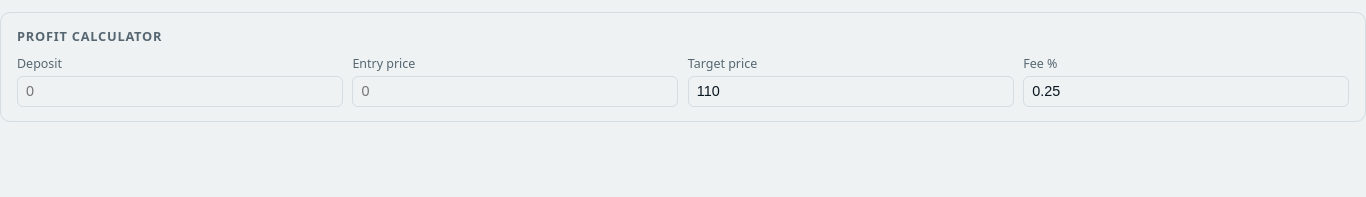
Test: computes net profit live from deposit + entry against the target
This screenshot has width=1366, height=197.
Type "10000" into the field labelled "Deposit". click: (180,91)
box: [17,76,343,107]
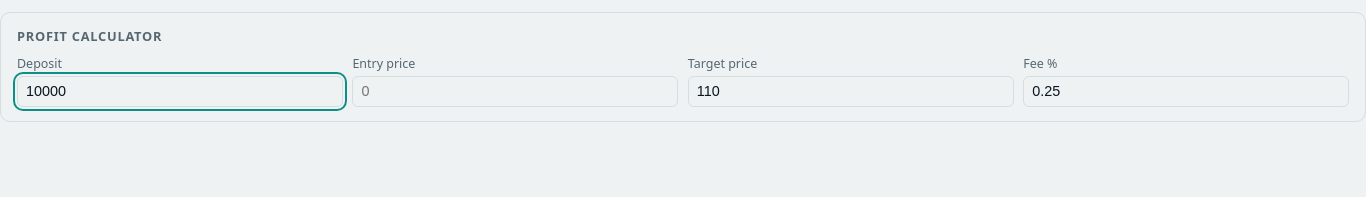
Type "100" into the field labelled "Entry price". click: (515,91)
box: [352,76,678,107]
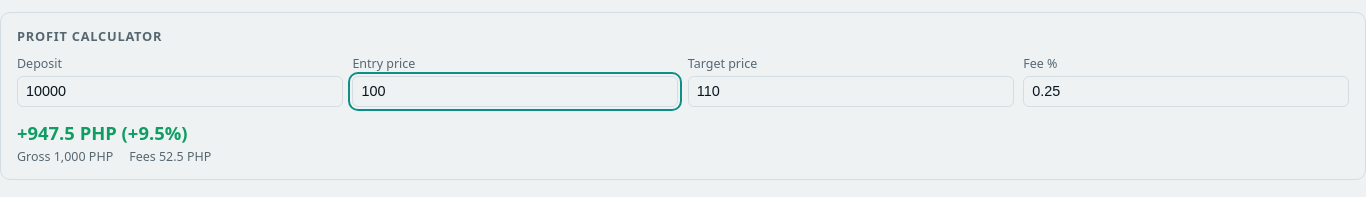
Now the text "+947.5 PHP (+9.5%)" is shown, box [17,120,188,145]
